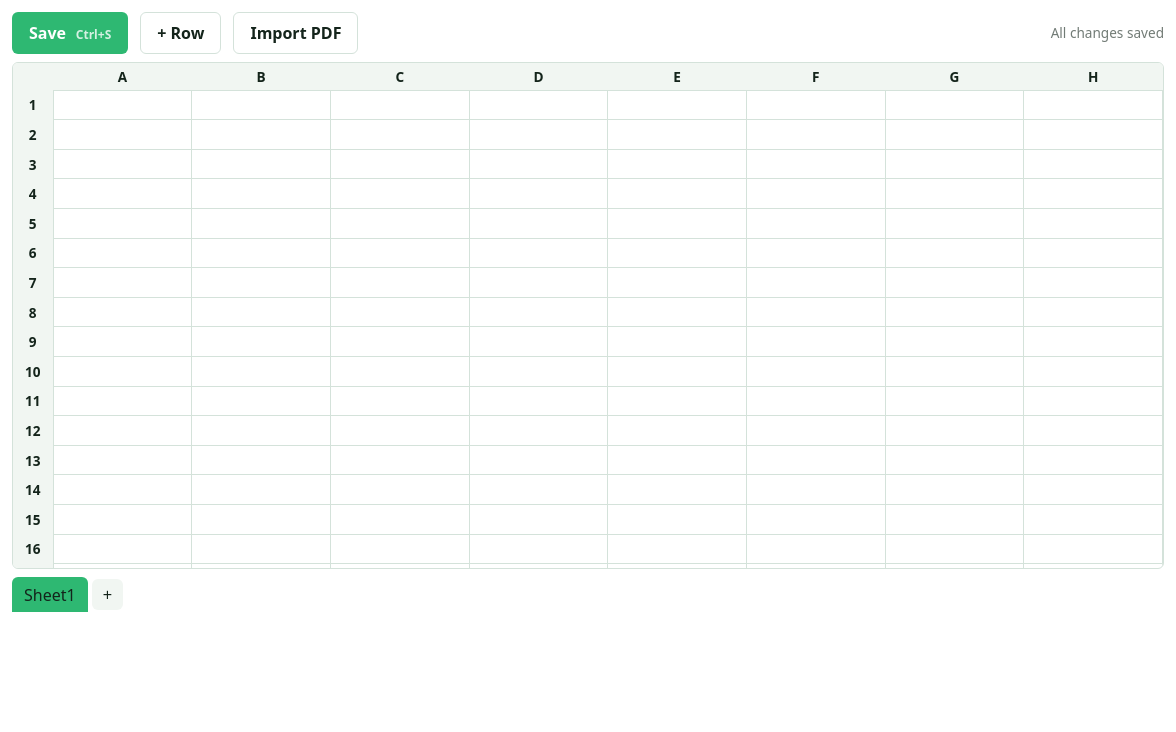
Test case: SpreadsheetScreen › adds a new sheet tab
The image size is (1176, 732).
Check: the button "Sheet1" is shown, box top-left (12, 577), bottom-right (88, 612)
Step 1. Click the button named "Add sheet" → (108, 595), box top-left (92, 579), bottom-right (123, 610)
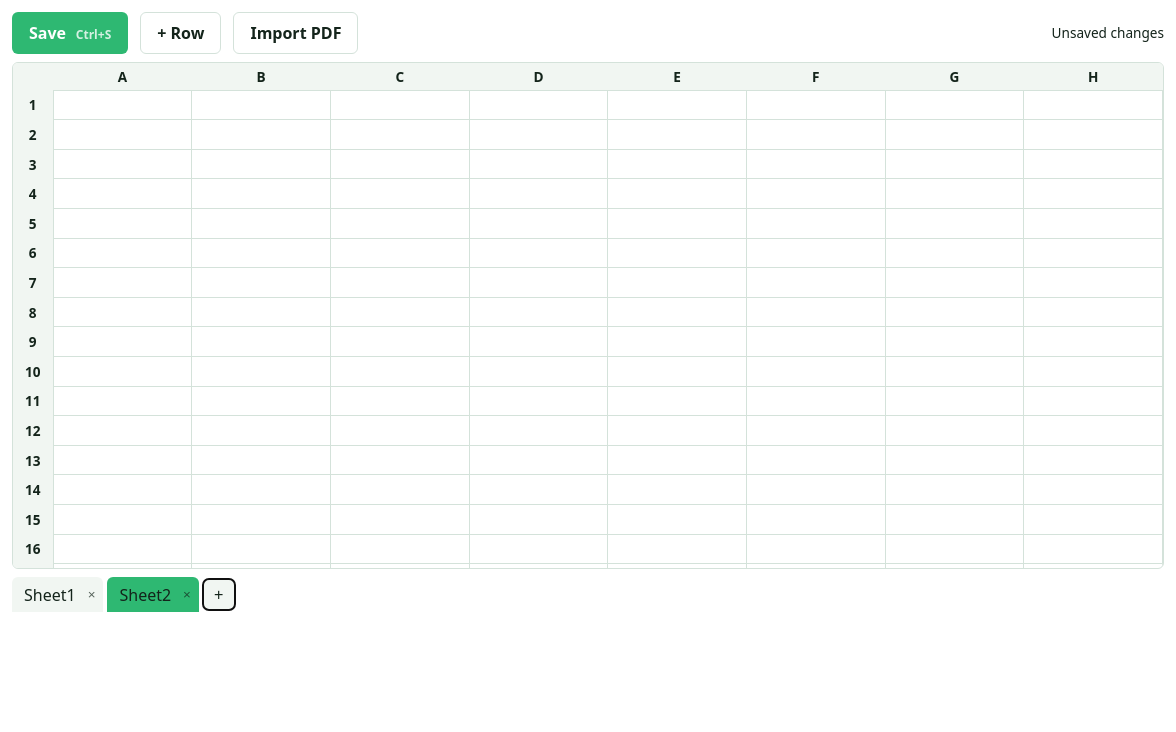
Check: the button "Sheet2" is shown, box top-left (108, 577), bottom-right (183, 612)
